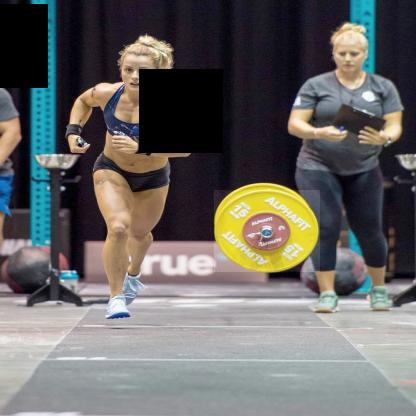barbell: (215, 191, 321, 273)
